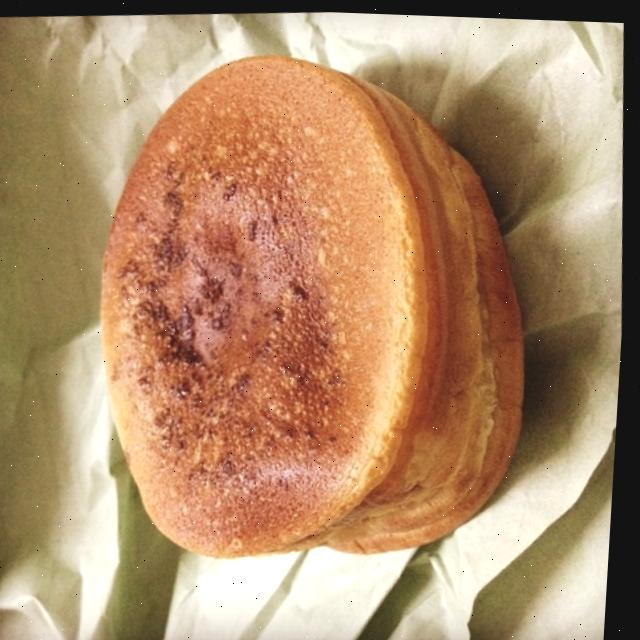蛋糕甜品: (38, 12, 576, 595)
